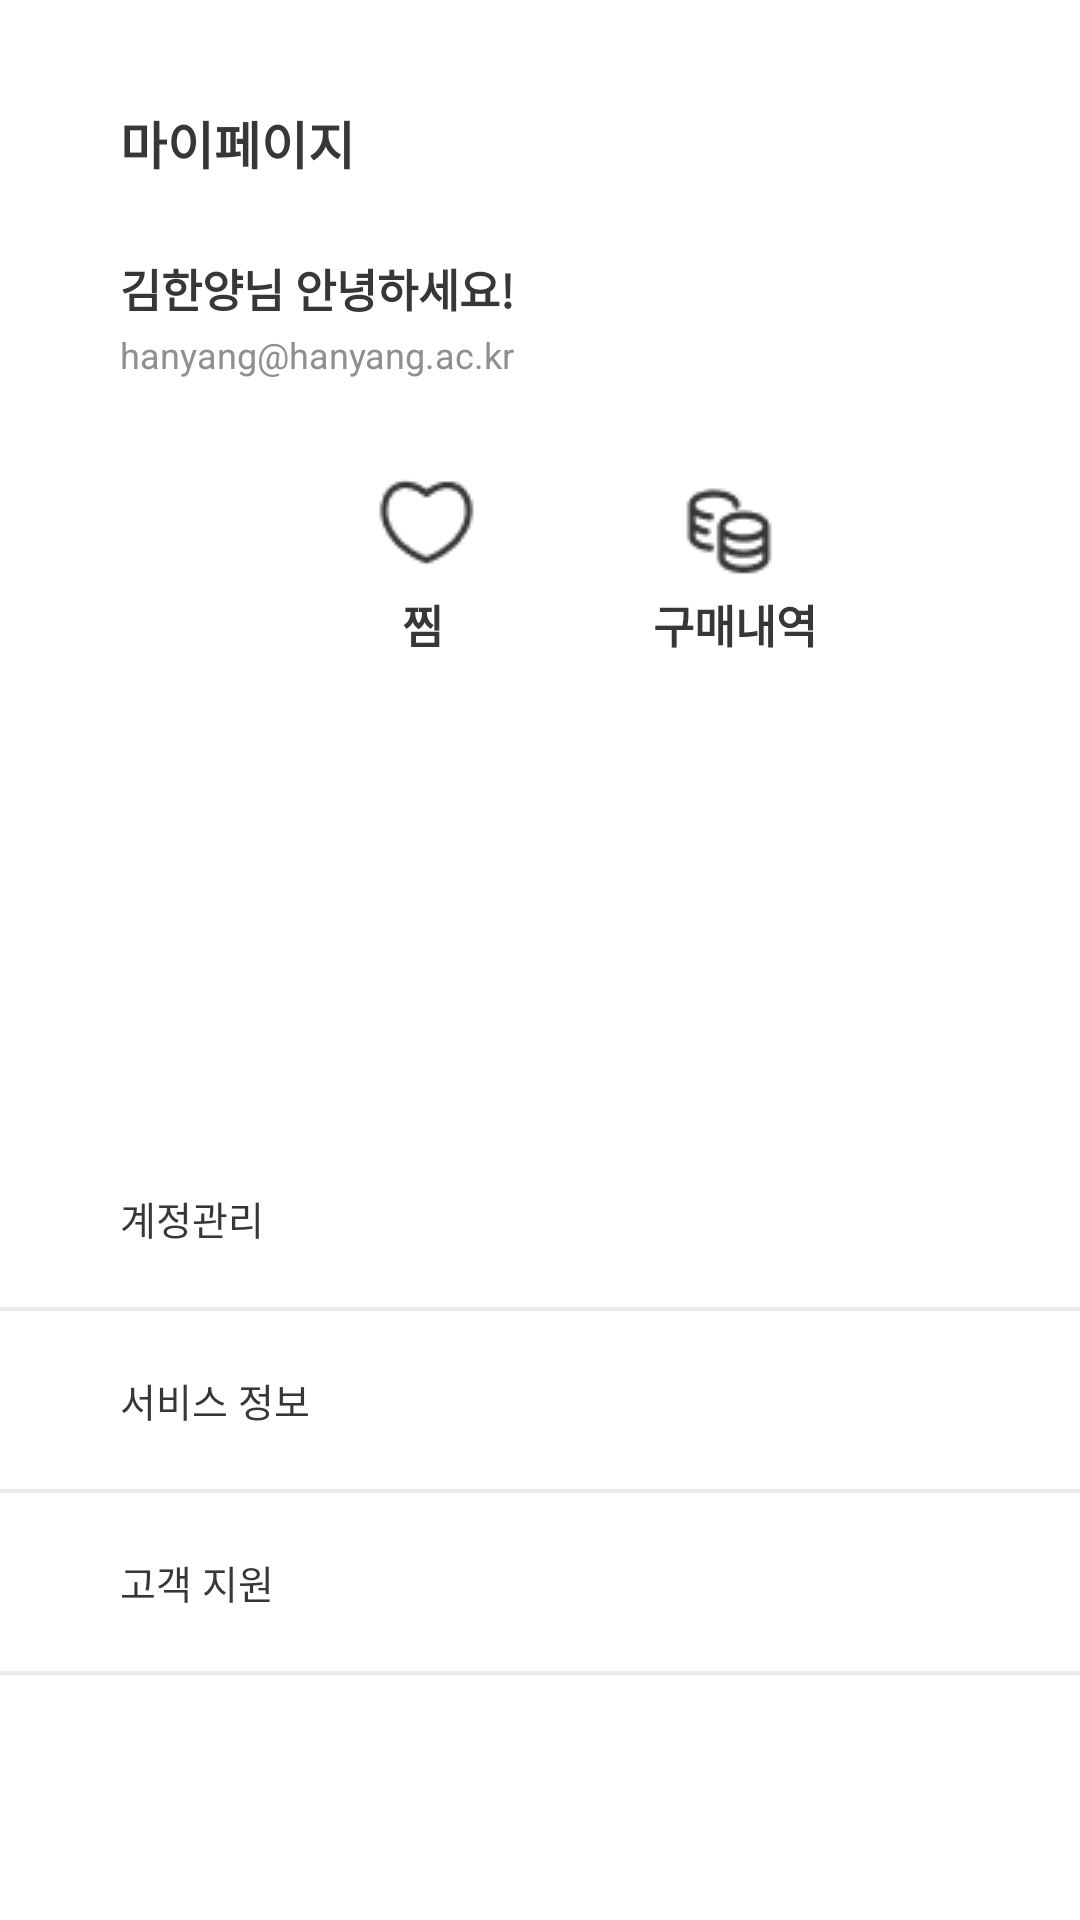

Icon click points for this 1080px×1920px phone screenshot, format point (x, y):
mypage coin: point (729, 531)
mypage heart: point (426, 522)
